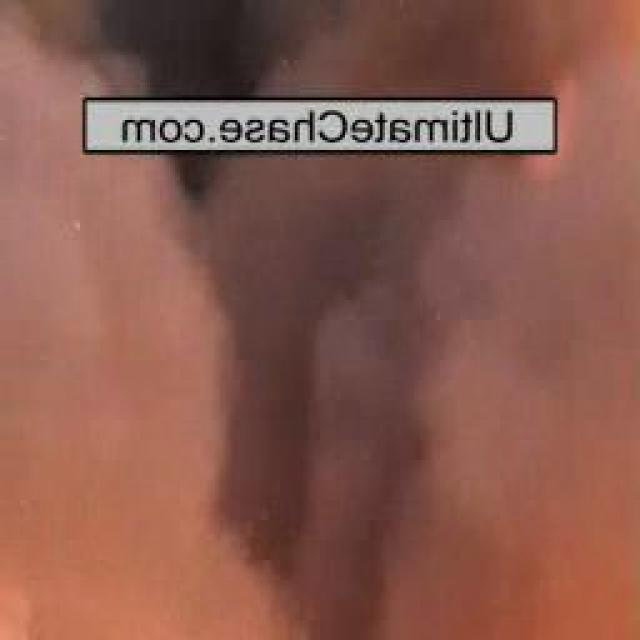Fire: (526, 488, 640, 640), (582, 0, 640, 53)
